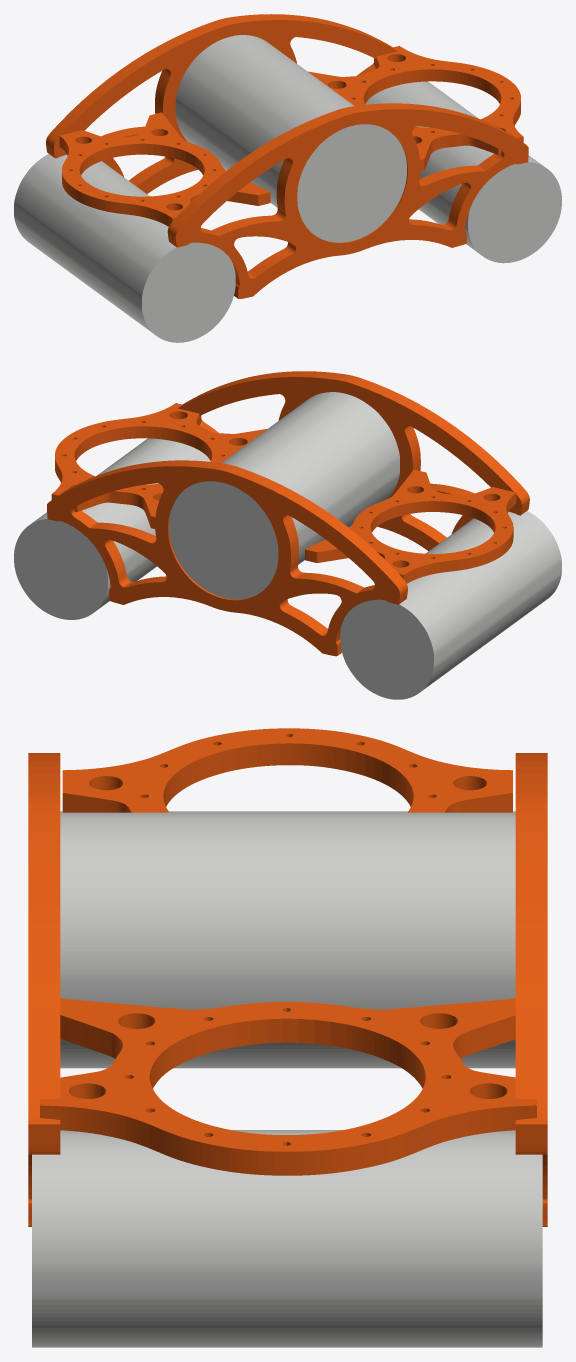
Rendered from viv_body.dae.
3 renders of one model, top to bottom at view 1: azimuth 30°, elevation 25°; view 2: azimuth 150°, elevation 25°; view 3: azimuth 270°, elevation 25°, orthographic. The views are drawn at different scales.
Parts seen in each view (by area): view 1: path5108; view 2: path5108; view 3: path5108.
Boxes of the visible parts, x1,y1,x2,y2 form: path5108: [14, 14, 561, 342]; path5108: [14, 371, 561, 699]; path5108: [28, 728, 547, 1347].
Bounding box in the file's own units: 0.9032 × 0.4657 × 0.3733.
